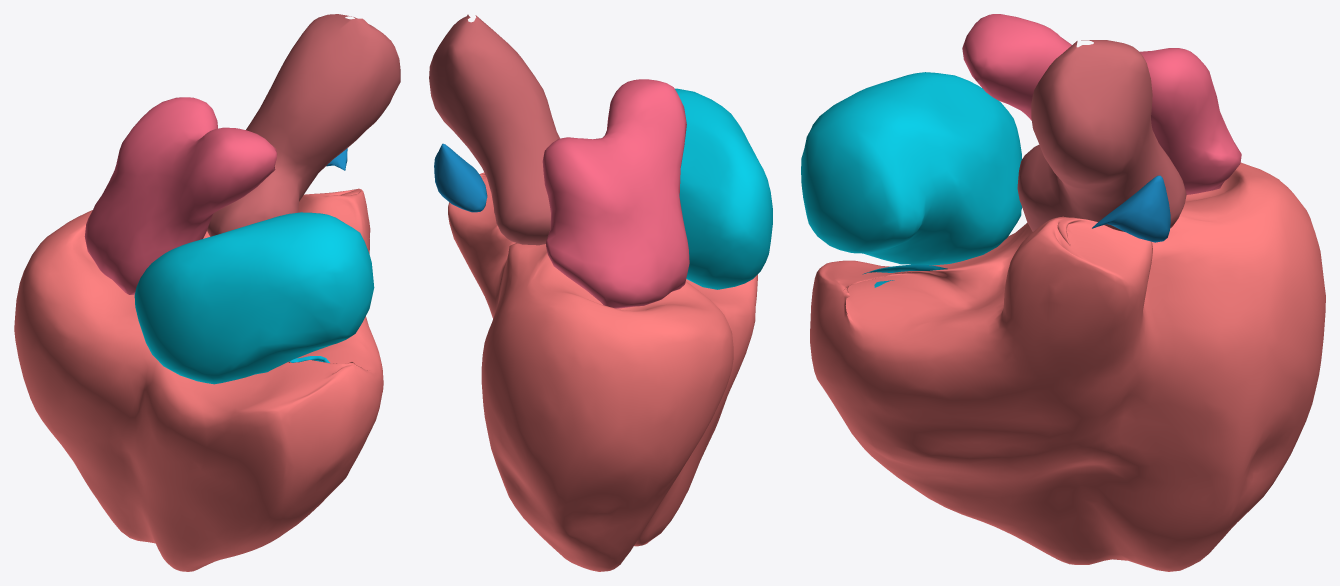
Rendered from frame_14.glb.
3 views of the same model, side by side, from view 1: azimuth 30°, elevation 25°; view 2: azimuth 150°, elevation 25°; view 3: azimuth 270°, elevation 25° (orthographic). The views are drawn at different scales.
Visible parts, largest first — view 1: Renderer Node; view 2: Renderer Node; view 3: Renderer Node.
Boxes of the visible parts, x1,y1,x2,y2 form: Renderer Node: (14,14,400,571); Renderer Node: (429,14,772,571); Renderer Node: (801,14,1325,571).
Size of the model in its own units: 104 by 155 by 118.
